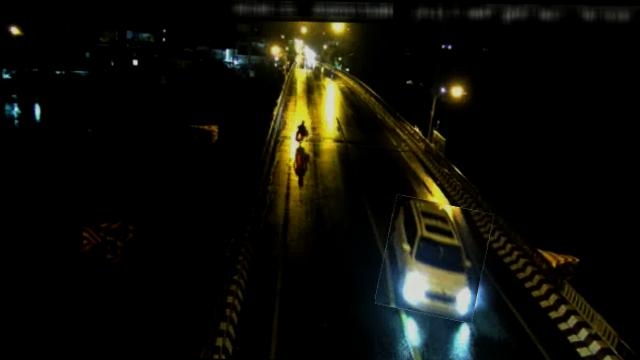Bike: (295, 118, 311, 142)
Car: (379, 198, 490, 318)
